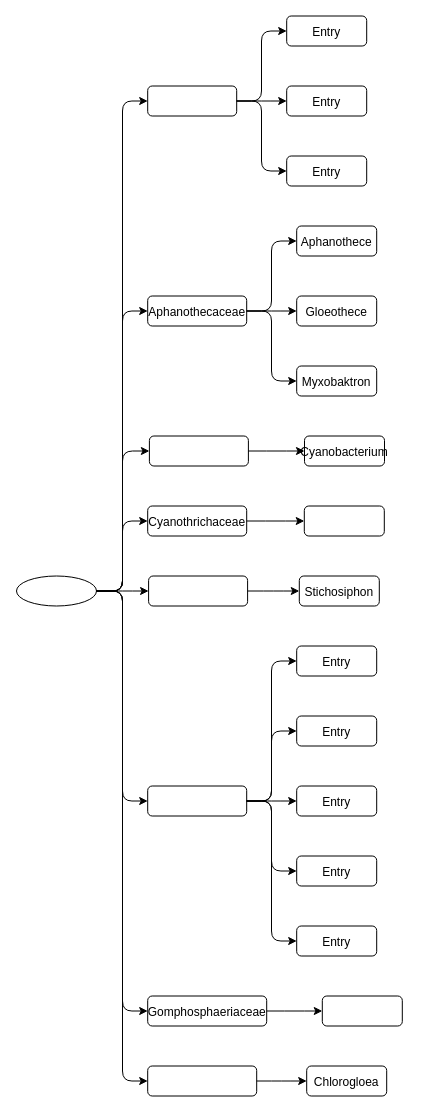
Image size: 425x1112. Some labels were removed from this diagram. The shapes that lost their labels are listed below. From the top down, each one's centre as x and y in pixels, then its label:
At [192,100]: "Microcystaceae".
At [198,450]: "Cyanobacteriaceae".
At [343,520]: "Johannesbaptistia".
At [56,590]: "Chroococcales".
At [198,590]: "Stichosiphonaceae".
At [197,800]: "Chroococcaceae".
At [361,1010]: "Gomphosphaeria".
At [202,1080]: "Entophysalidaceae".
